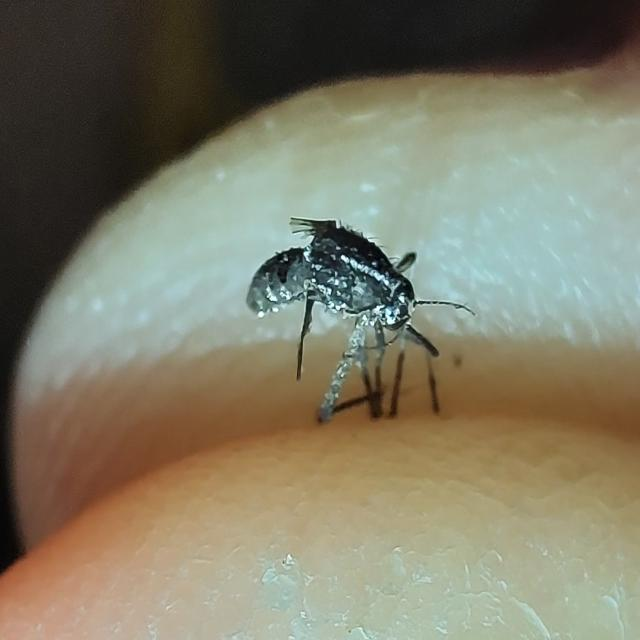albopictus: (249, 201, 473, 428)
